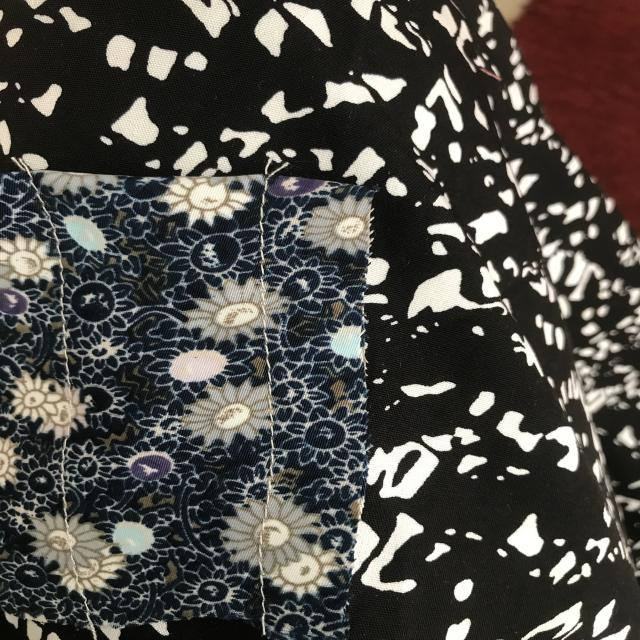good: (254, 336, 296, 487), (249, 203, 281, 297), (55, 294, 75, 364)
